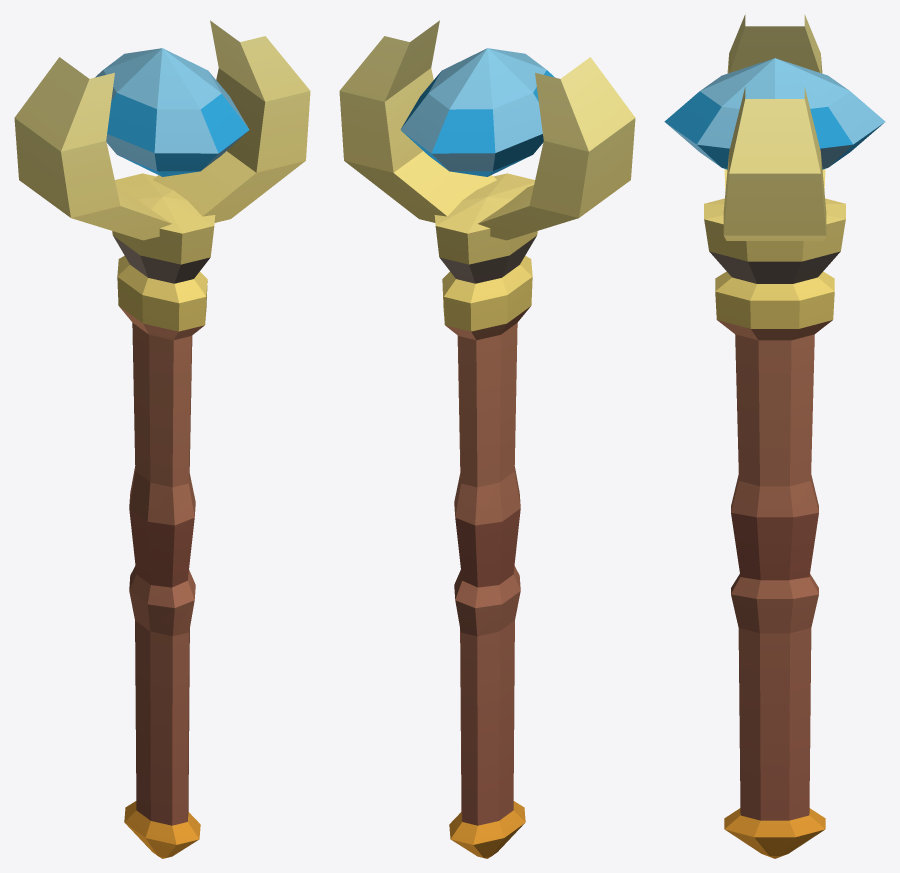
Rendered from wand_celestial.glb.
The picture shows the model from 3 angles, left to right: view 1: azimuth 30°, elevation 25°; view 2: azimuth 150°, elevation 25°; view 3: azimuth 270°, elevation 25°; orthographic projection.
Parts seen in each view (by area): view 1: model; view 2: model; view 3: model.
Part boxes in pixels (left/top/right/bottom): model: left=14, top=20, right=310, bottom=858; model: left=339, top=20, right=635, bottom=858; model: left=664, top=14, right=885, bottom=858.
Size of the model in its own units: 0.36 by 1.12 by 0.28.
1 material, 1 textured.
